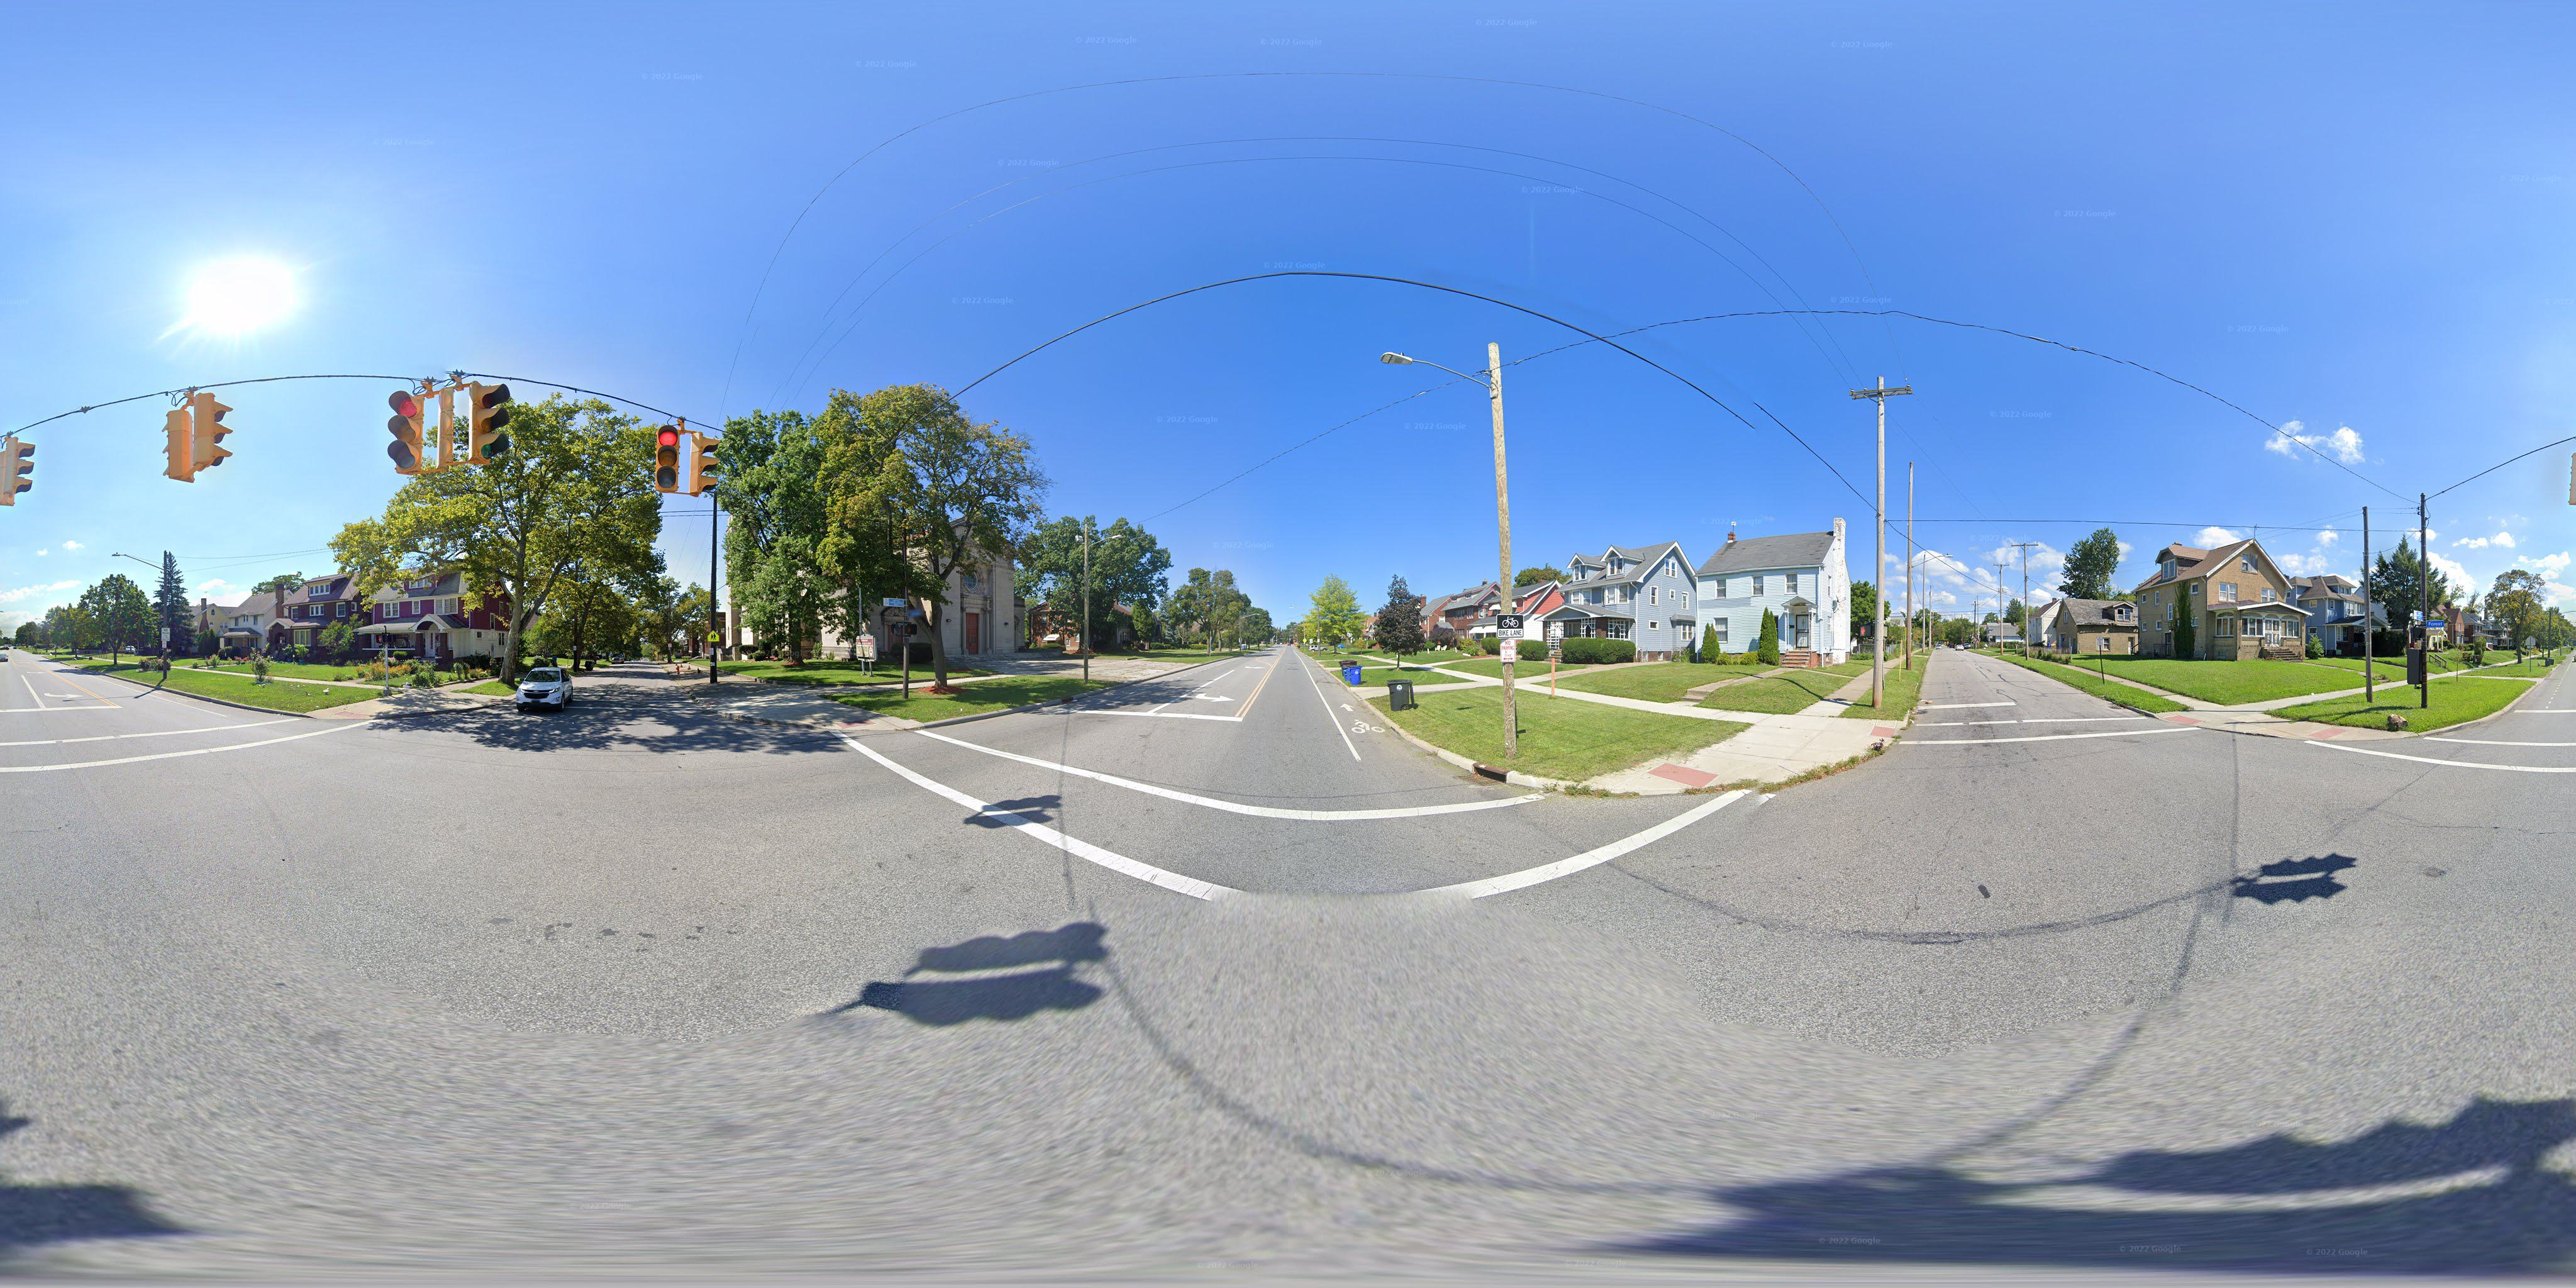Curb Ramp: (310, 690, 383, 736), (2288, 715, 2372, 751), (2139, 693, 2208, 736), (1861, 713, 1925, 751), (821, 710, 902, 739)
Irregular Ramp: (1575, 741, 1718, 803)
